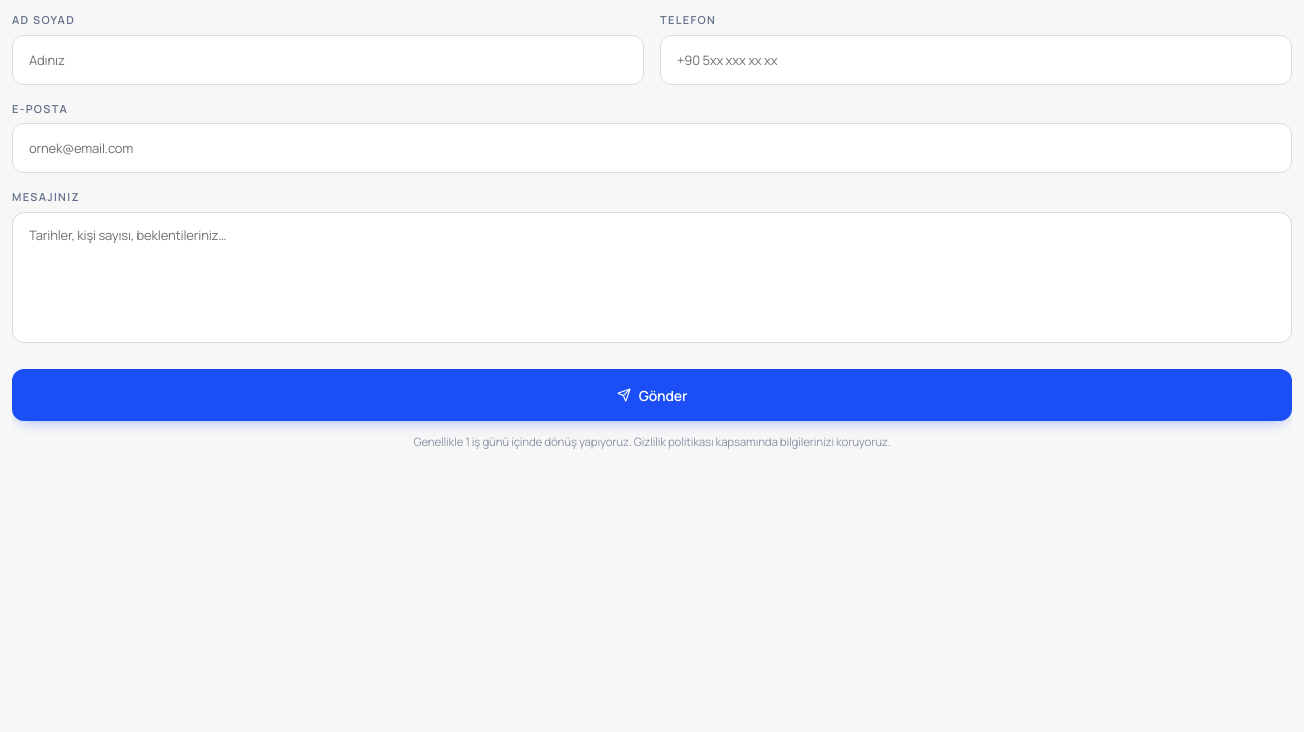
Scenario: ContactForm — çoklu dil › 32) tr: mesaj uzunluğu validation'ı `{n}` ile doldurulur
Step 1. Type "Ad" into the field with placeholder "Adınız" → [328, 60], box [12,34,644,84]
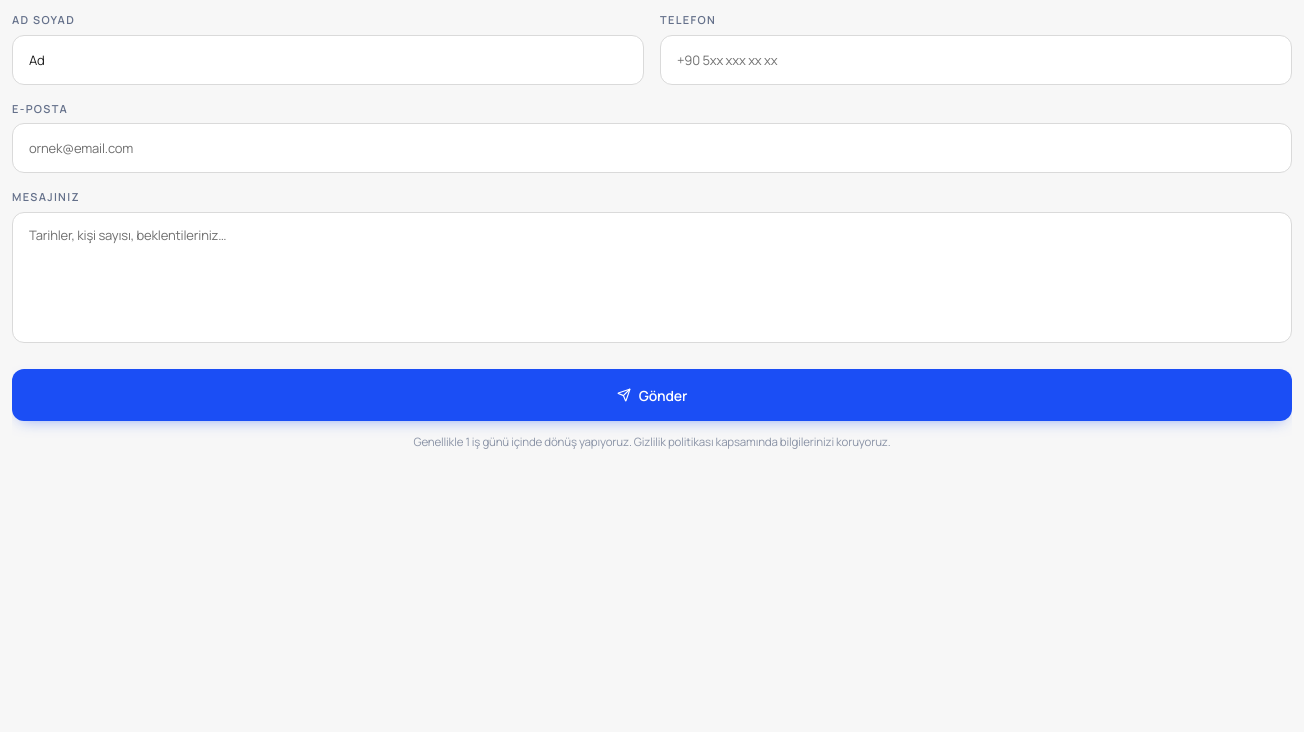
Step 2. Submit the text "Gönder", box [12,12,1292,452]
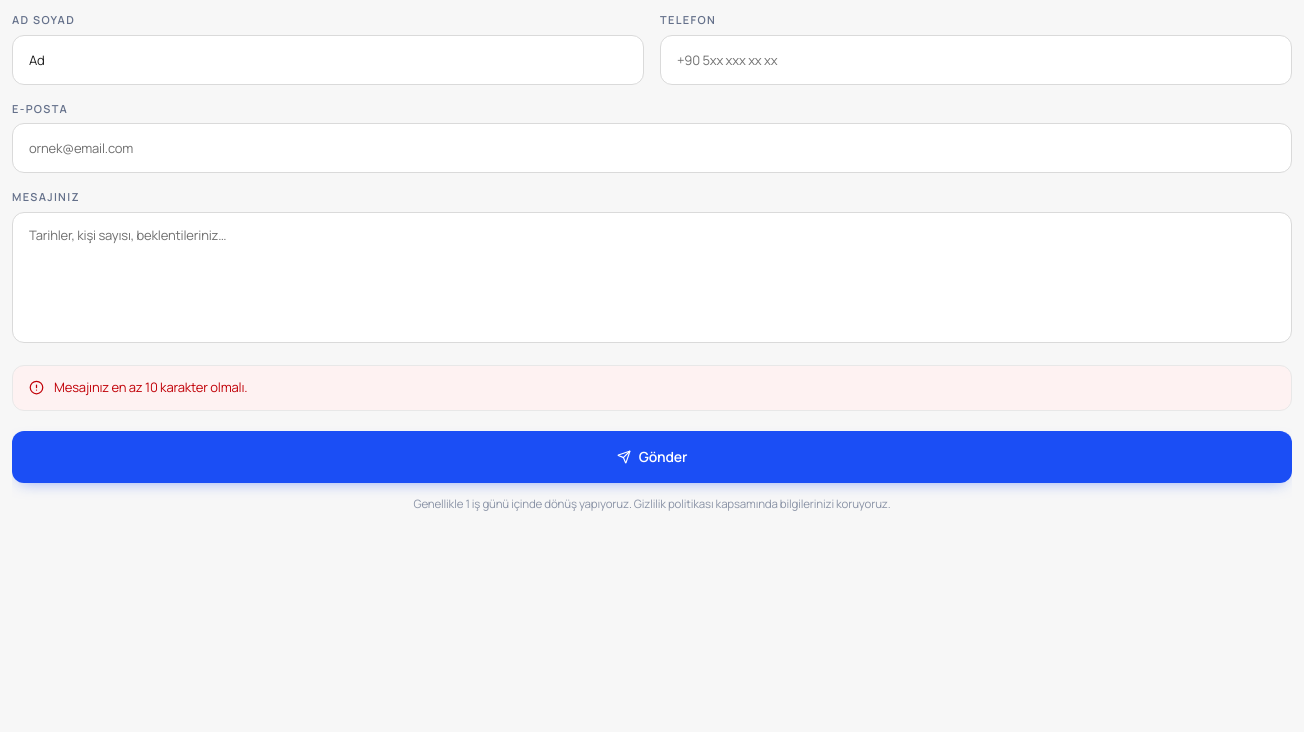
Now the text "Mesajınız en az 10 karakter olmalı." is shown, box [54,378,248,398]
